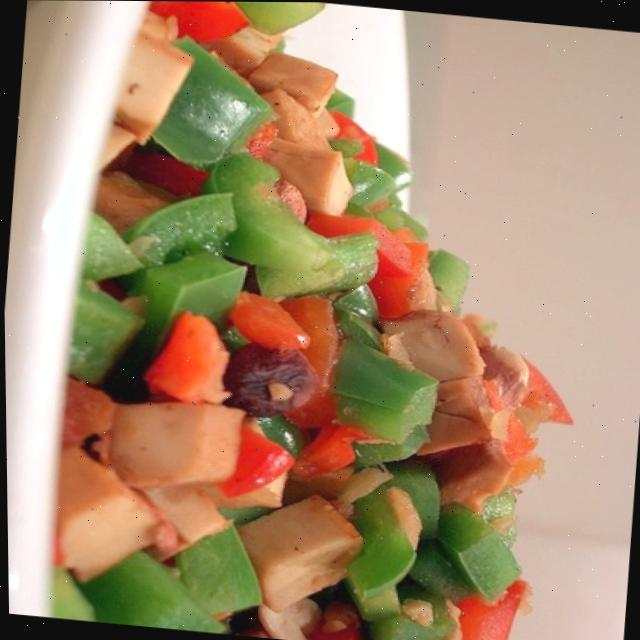蔬菜料理: (0, 0, 634, 640)
